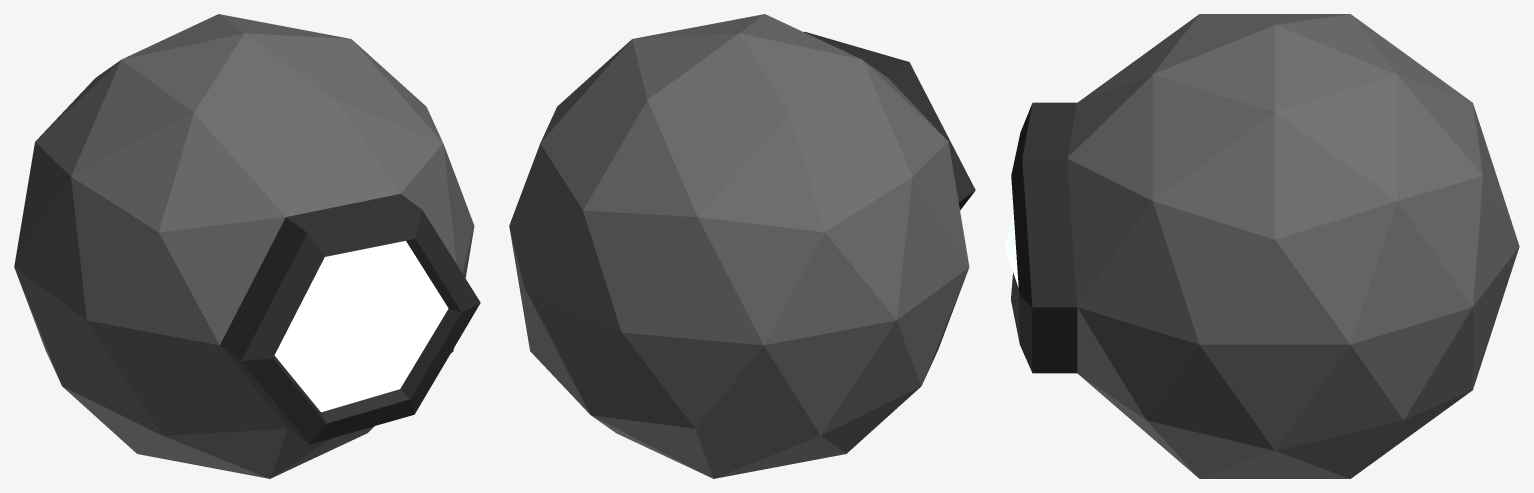
File: Robot_Head.fbx
3 renders of one model, left to right at view 1: azimuth 30°, elevation 25°; view 2: azimuth 150°, elevation 25°; view 3: azimuth 270°, elevation 25°, orthographic. The views are drawn at different scales.
Parts seen in each view (by area): view 1: Icosphere; view 2: Icosphere; view 3: Icosphere.
Part boxes in pixels (x1=…): Icosphere: x1=14, y1=14, x2=480, y2=478; Icosphere: x1=509, y1=14, x2=975, y2=478; Icosphere: x1=1004, y1=14, x2=1519, y2=478.
Bounding box in the file's own units: 190 × 200 × 211.
